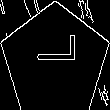L_W: (31, 45, 79, 76)
